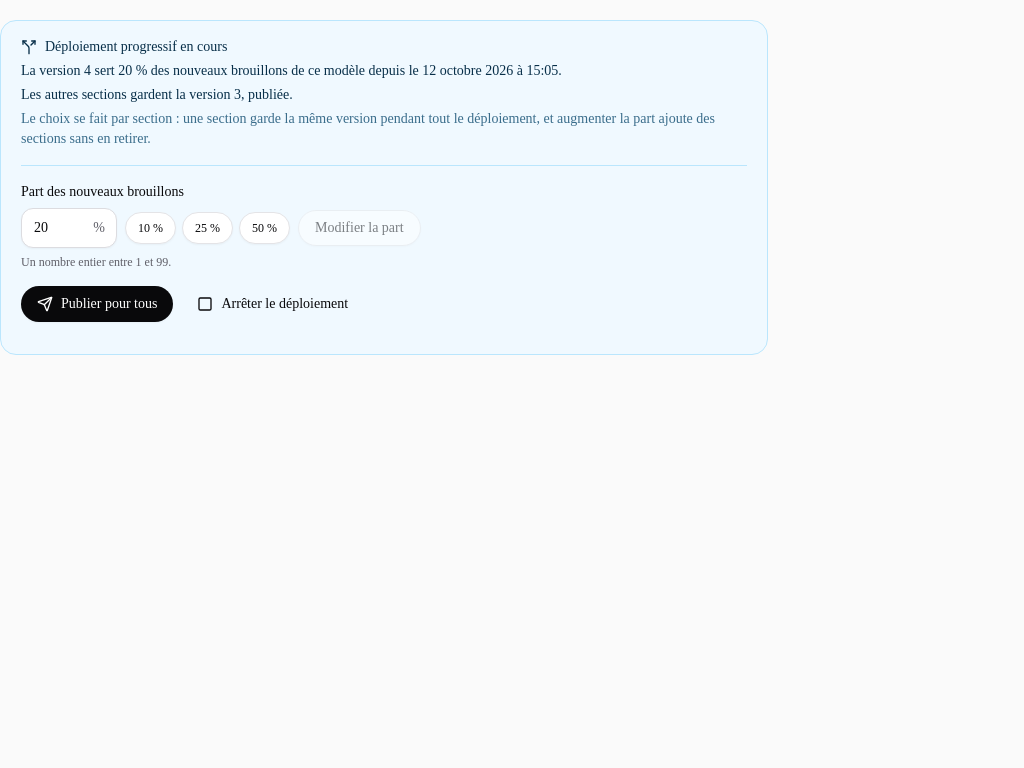
it: RolloutBanner on the candidate's page › says when the rollout already ended
Click the button "Publier pour tous": (97, 304) [21,286,174,322]
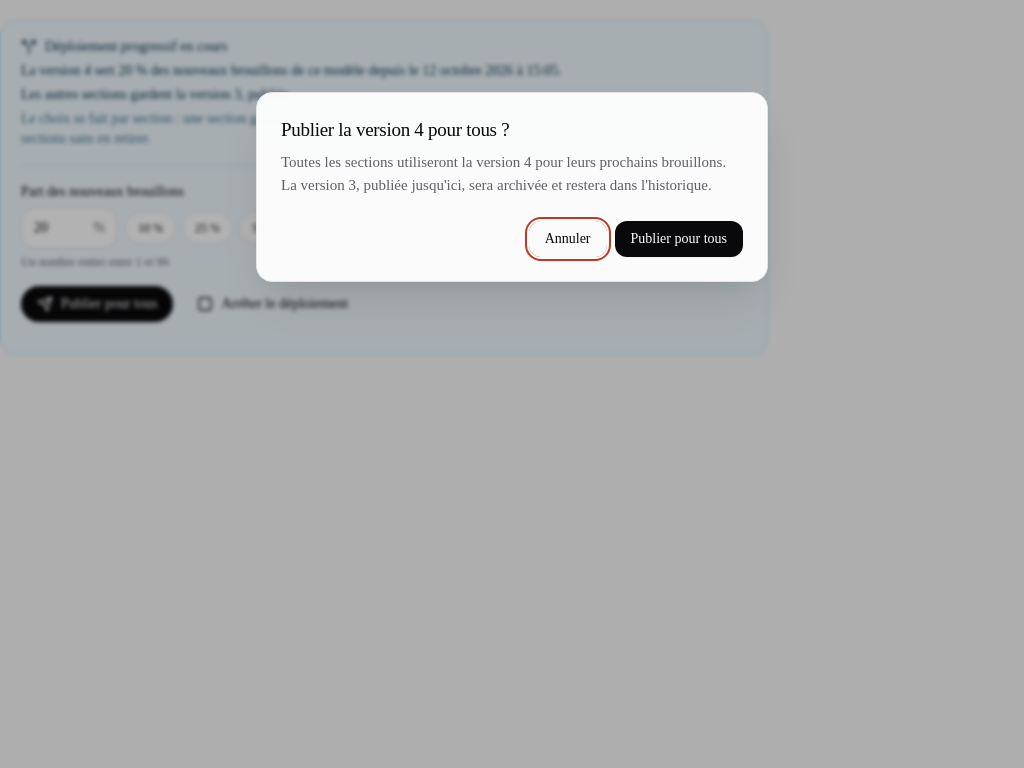
Click the button "Publier pour tous": (679, 239) [614,221,743,257]
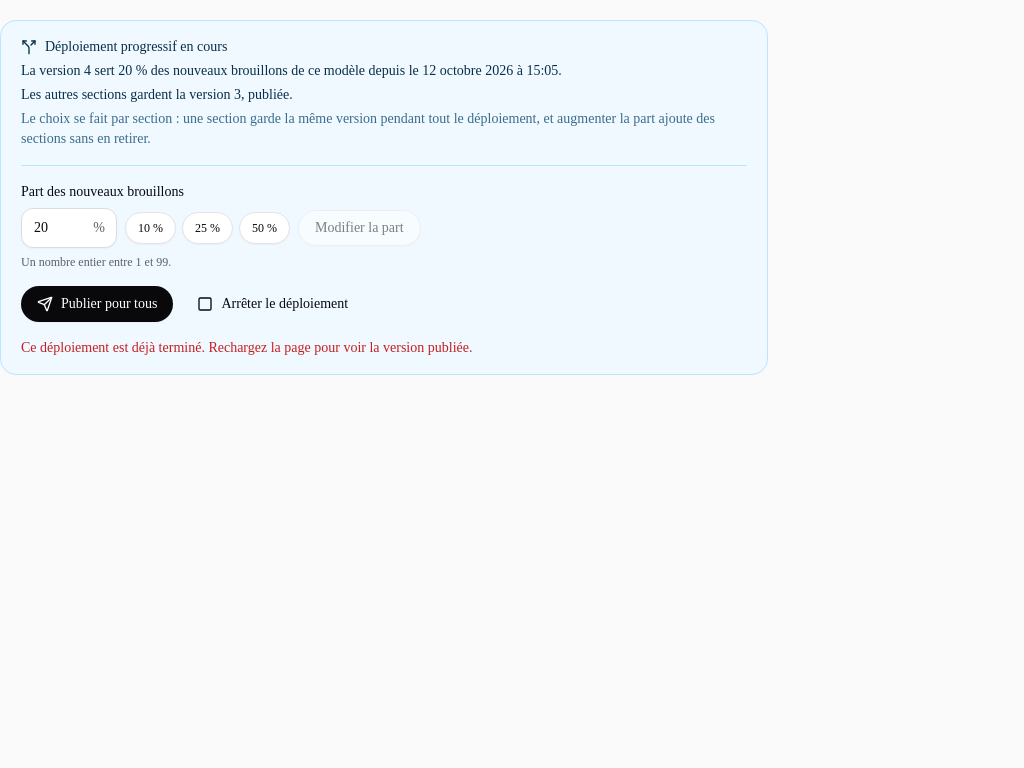
Expected: the text "Ce déploiement est déjà terminé. Rechargez la page pour voir la version publiée." is shown, [21,340,472,355]
